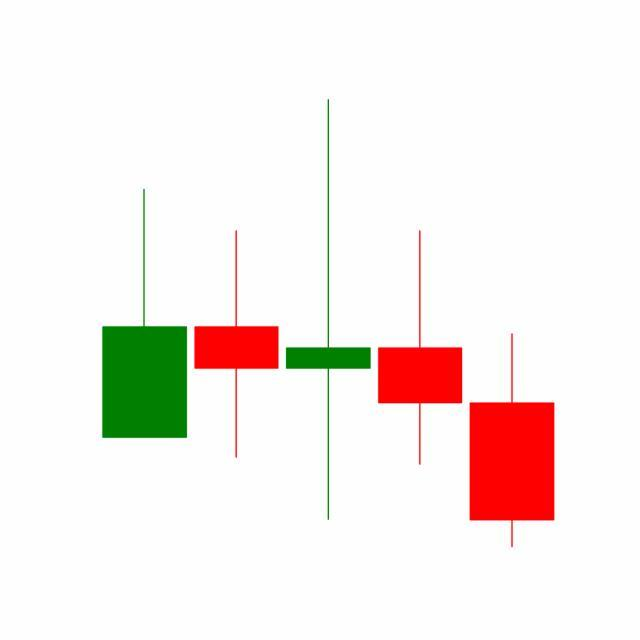Spinning Top: (374, 228, 468, 468)
